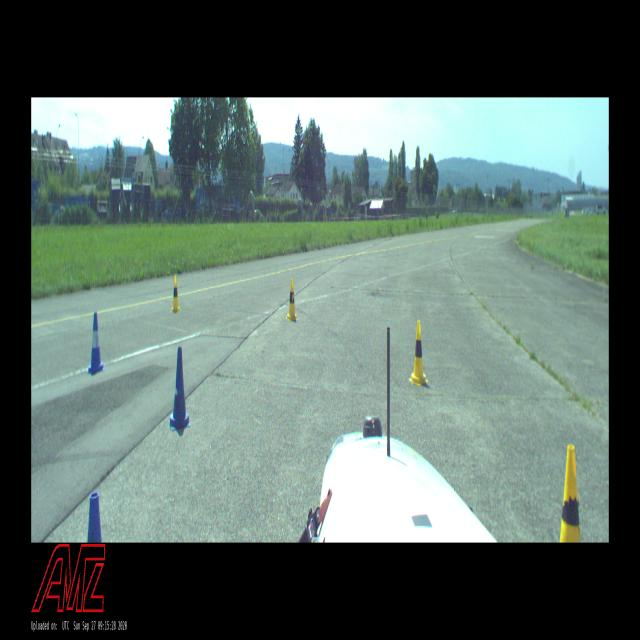blue_cone: (168, 346, 191, 431), (86, 313, 105, 374)
yellow_cone: (560, 444, 581, 542), (409, 320, 428, 387), (286, 280, 298, 322), (170, 275, 180, 313)
